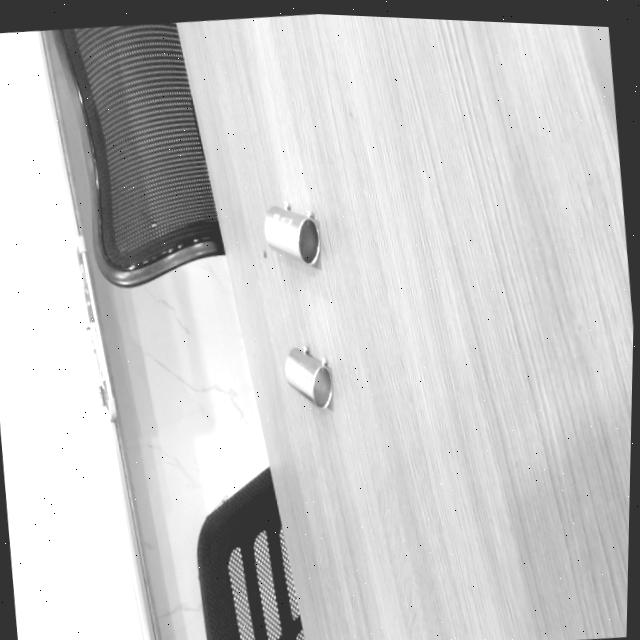Co_Lon: (257, 201, 328, 265)
Co_Nho: (272, 340, 347, 410)
